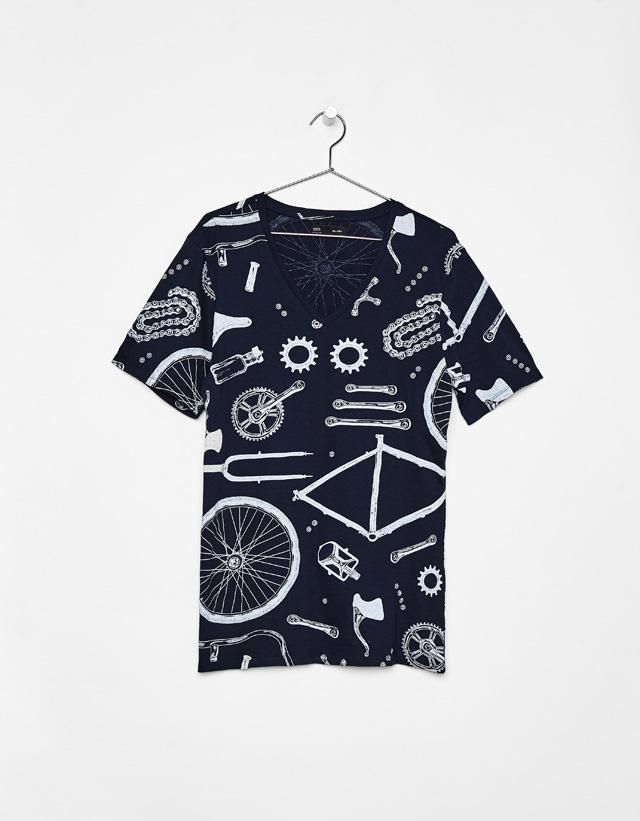teeshirt: (89, 185, 540, 709)
